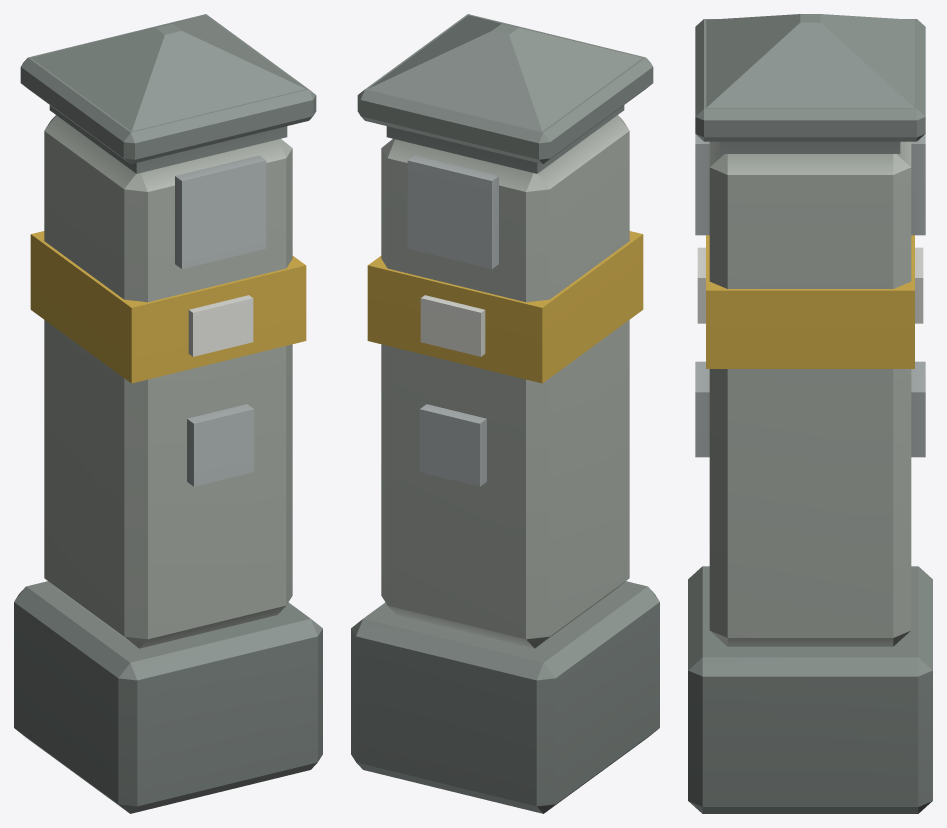
The model's file is sm_env_route_bridge_post.glb.
3 renders of one model, left to right at view 1: azimuth 30°, elevation 25°; view 2: azimuth 150°, elevation 25°; view 3: azimuth 270°, elevation 25°, orthographic. The views are drawn at different scales.
Visible parts, largest first — view 1: Post, PostBase, Band, PostCap, CapSlab, HandrailPlate, MidRailPlate, Reflector, DripGroove; view 2: Post, PostBase, Band, PostCap, CapSlab, HandrailPlate.001, MidRailPlate.001, Reflector.001, DripGroove; view 3: Post, PostBase, PostCap, Band, CapSlab, DripGroove, HandrailPlate, HandrailPlate.001, MidRailPlate, MidRailPlate.001, Reflector, Reflector.001.
Part boxes in pixels (x1,y1,x2,y2): Post: (44,115,292,648); PostBase: (14,581,322,813); Band: (30,231,306,383); PostCap: (31,15,305,131); CapSlab: (20,14,316,163); HandrailPlate: (175,155,266,268); MidRailPlate: (187,404,254,486); Reflector: (188,295,253,356); DripGroove: (49,105,287,173); Post: (381,115,629,648); PostBase: (351,581,659,813); Band: (367,231,643,383); PostCap: (368,15,642,131); CapSlab: (357,14,653,163); HandrailPlate.001: (407,155,498,268); MidRailPlate.001: (419,404,486,486); Reflector.001: (420,295,485,356); DripGroove: (386,105,624,173); Post: (709,141,911,646); PostBase: (688,566,932,813); PostCap: (706,14,914,107); Band: (706,235,914,368); CapSlab: (695,19,925,141); DripGroove: (720,141,900,153); HandrailPlate: (695,134,709,235); HandrailPlate.001: (911,134,925,235); MidRailPlate: (695,361,709,457); MidRailPlate.001: (911,361,925,457); Reflector: (697,247,705,323); Reflector.001: (915,247,923,323).
Bounding box in the file's own units: 0.34 × 1.15 × 0.34.
